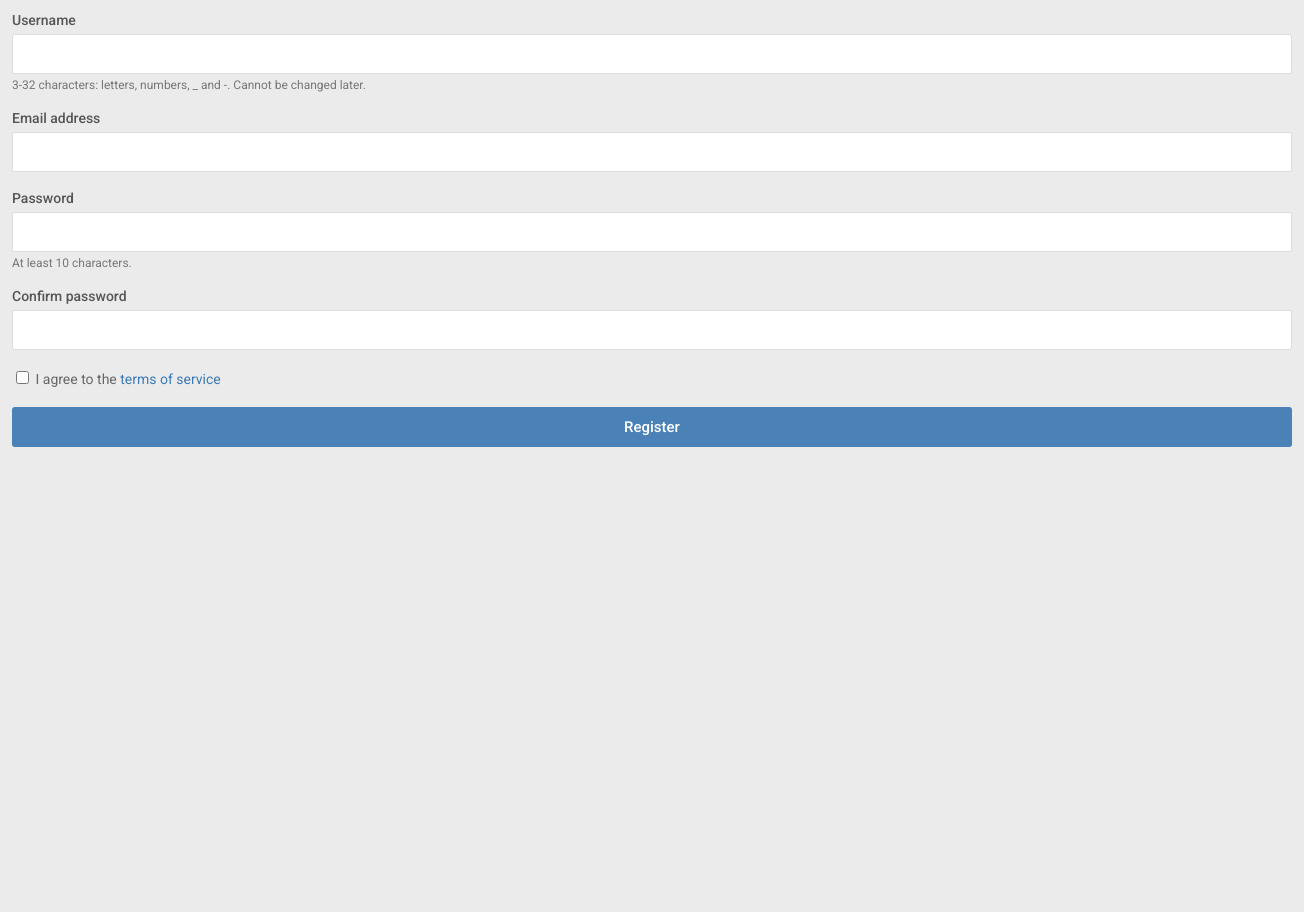
Test: links the terms and enforces the client-side limits
Type "a b" into the field labelled "Username" at x=652, y=54, box top-left (12, 34), bottom-right (1292, 74)
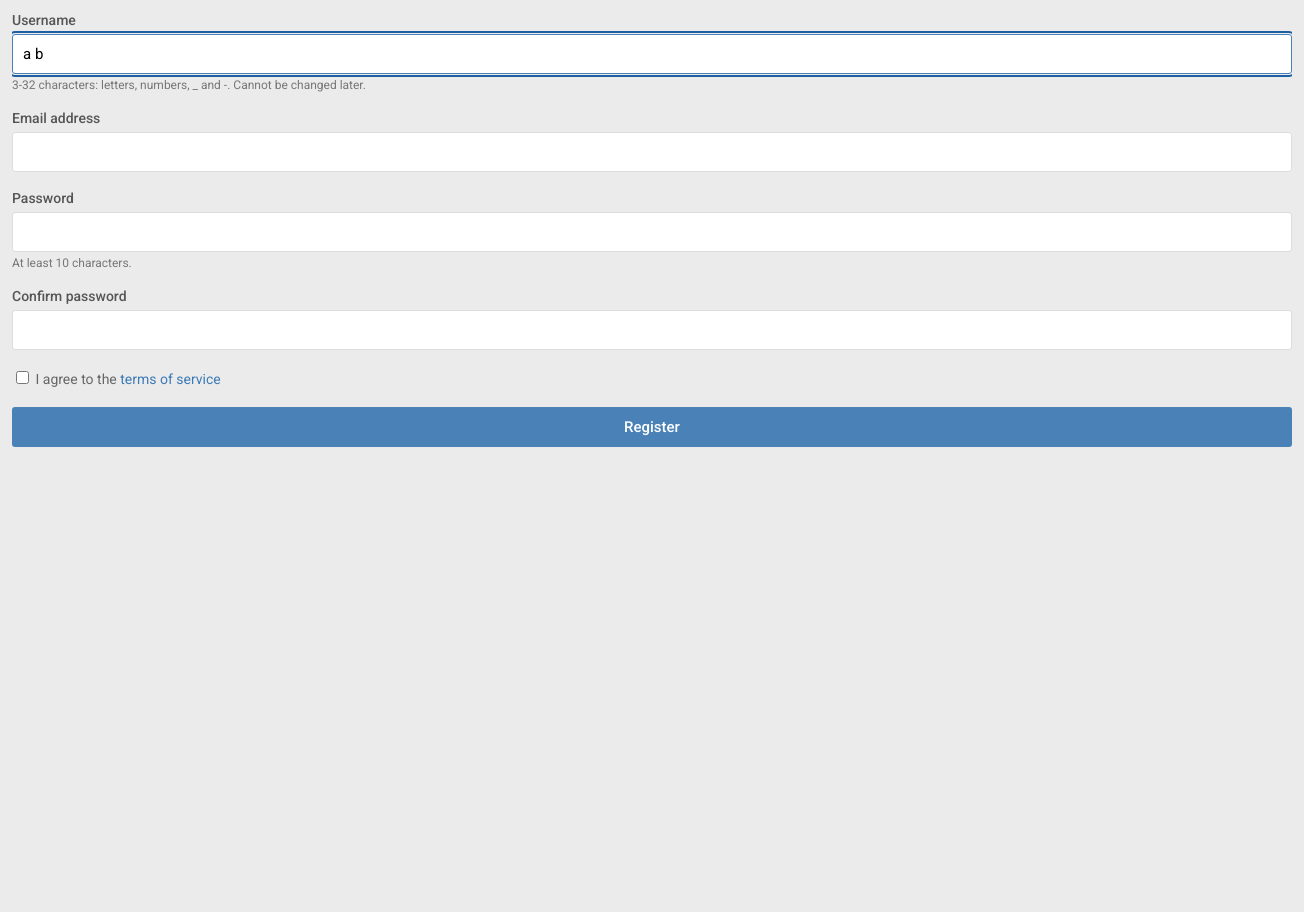
Type "nope" into the field labelled "Email address" at x=652, y=152, box top-left (12, 132), bottom-right (1292, 172)
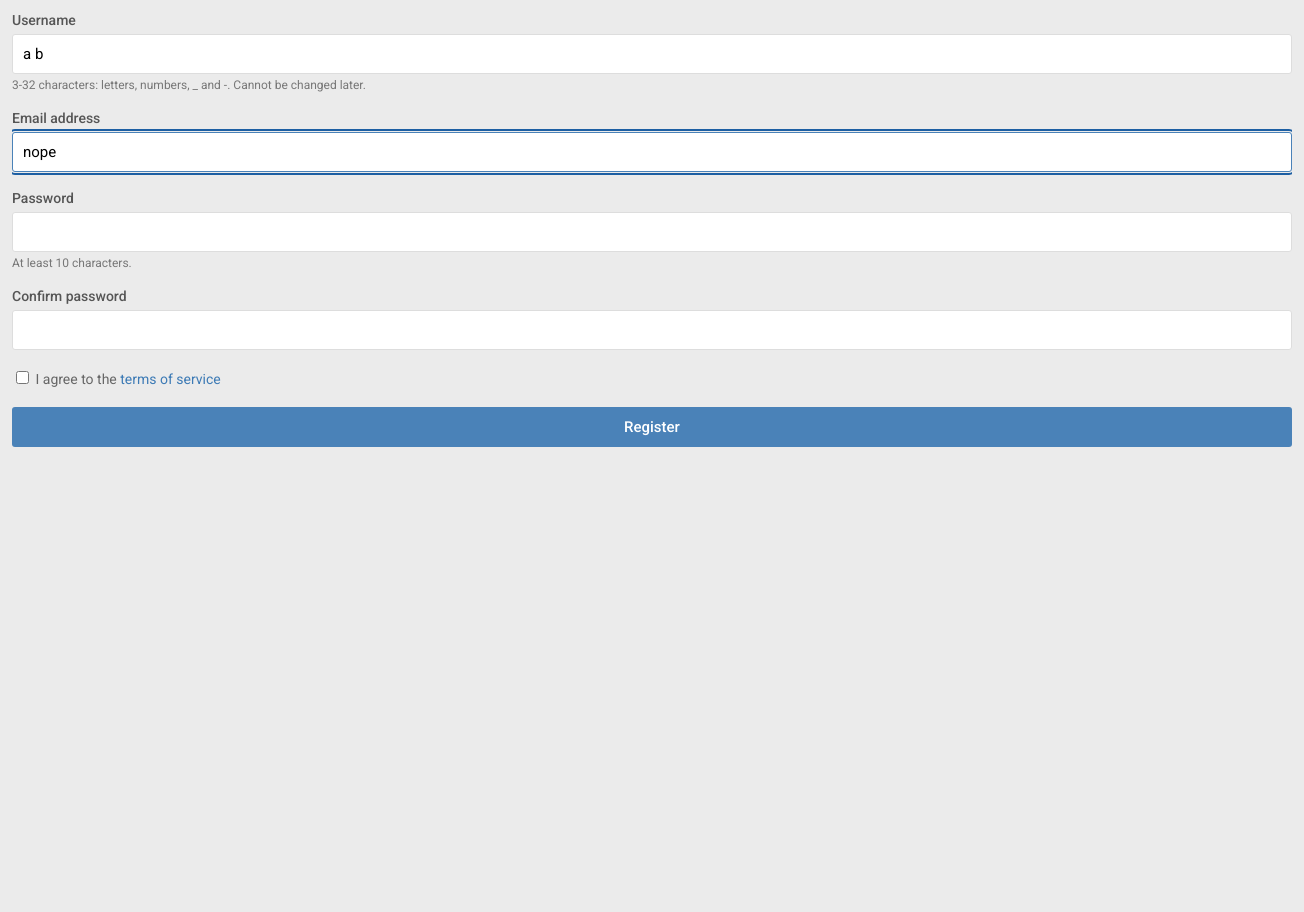
Type "short" into the password field labelled "Password" at x=652, y=232, box top-left (12, 212), bottom-right (1292, 252)
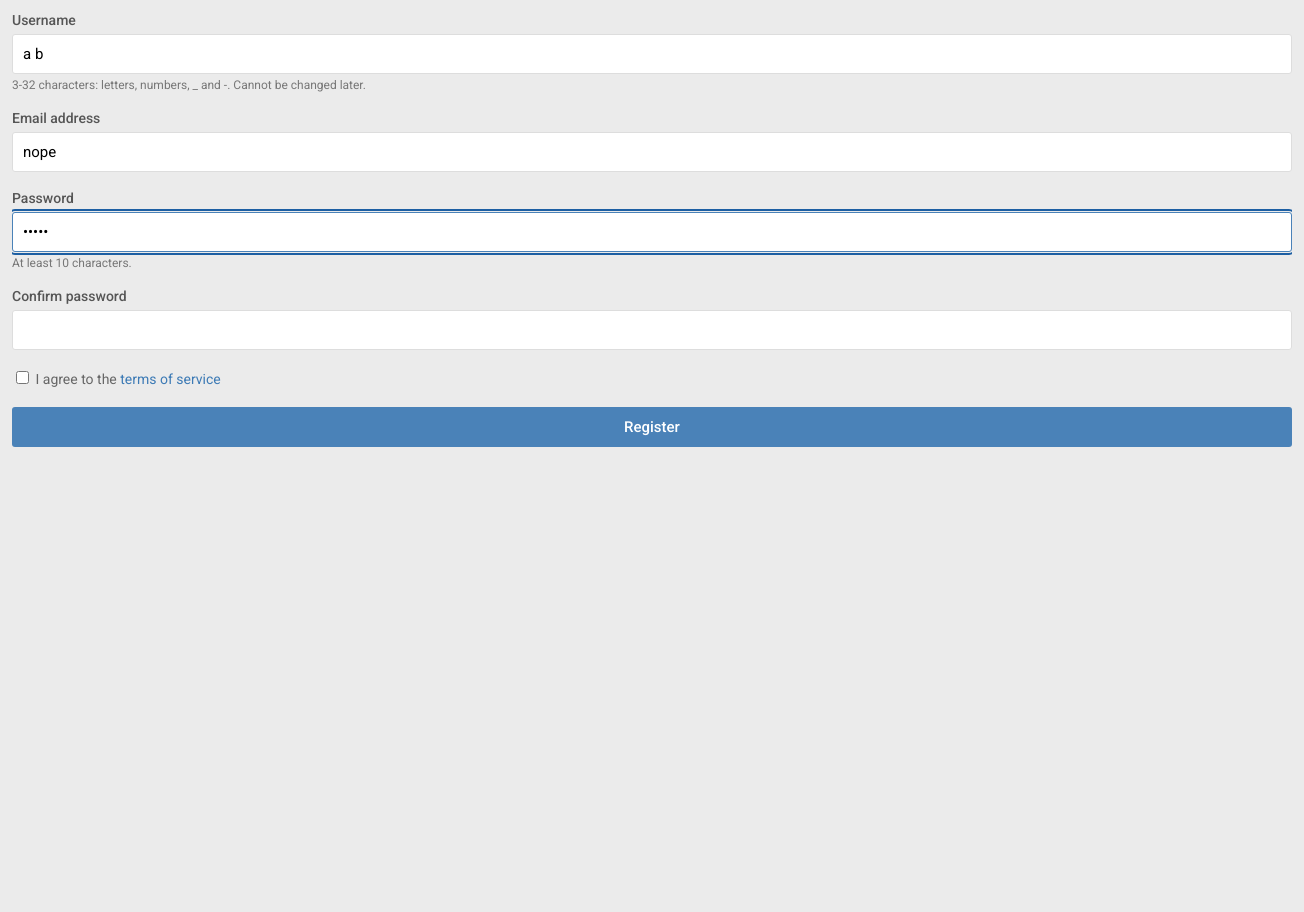
Type "different" into the password field labelled "Confirm password" at x=652, y=330, box top-left (12, 310), bottom-right (1292, 350)
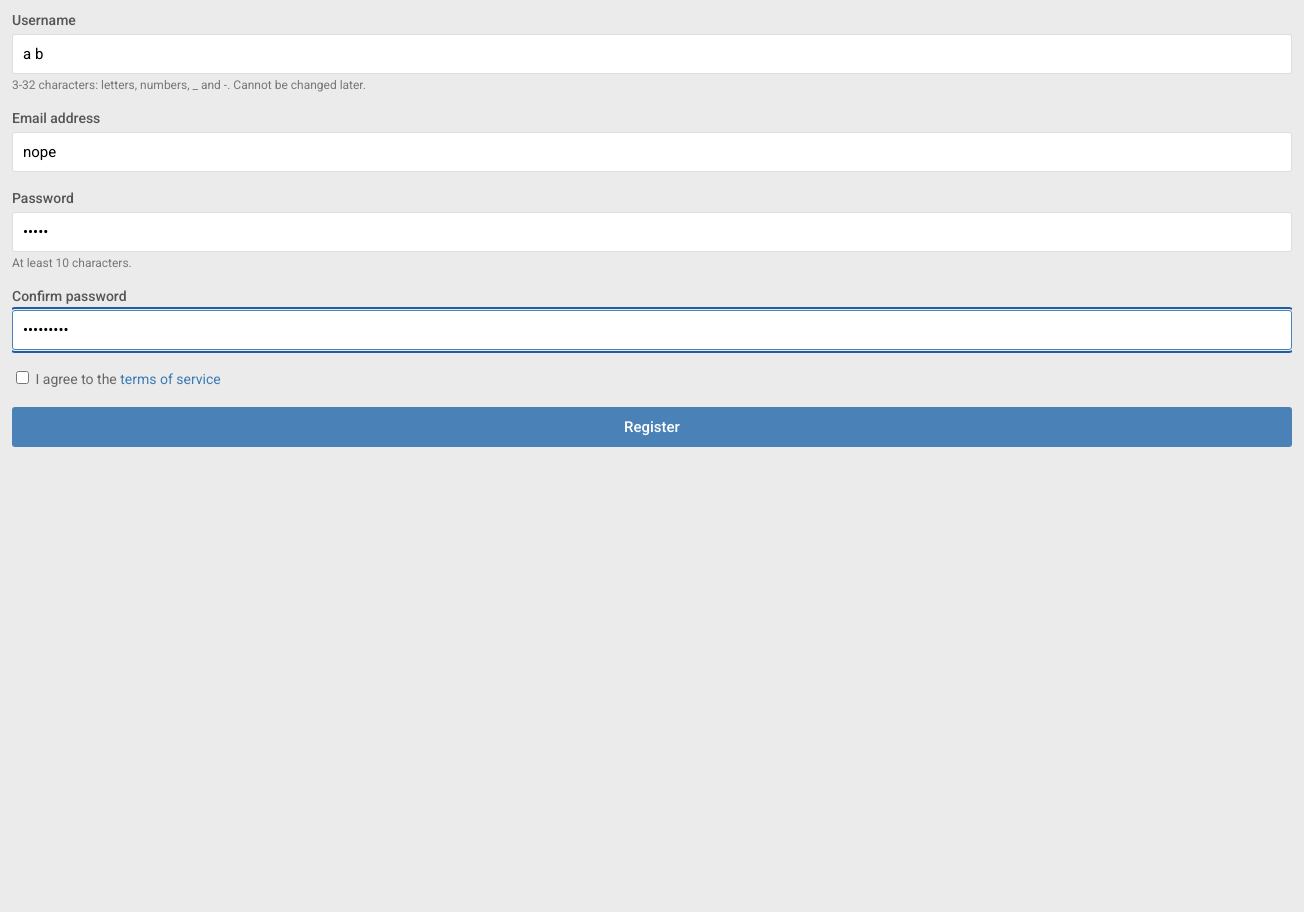
Click the button "Register" at x=652, y=427, box top-left (12, 407), bottom-right (1292, 447)
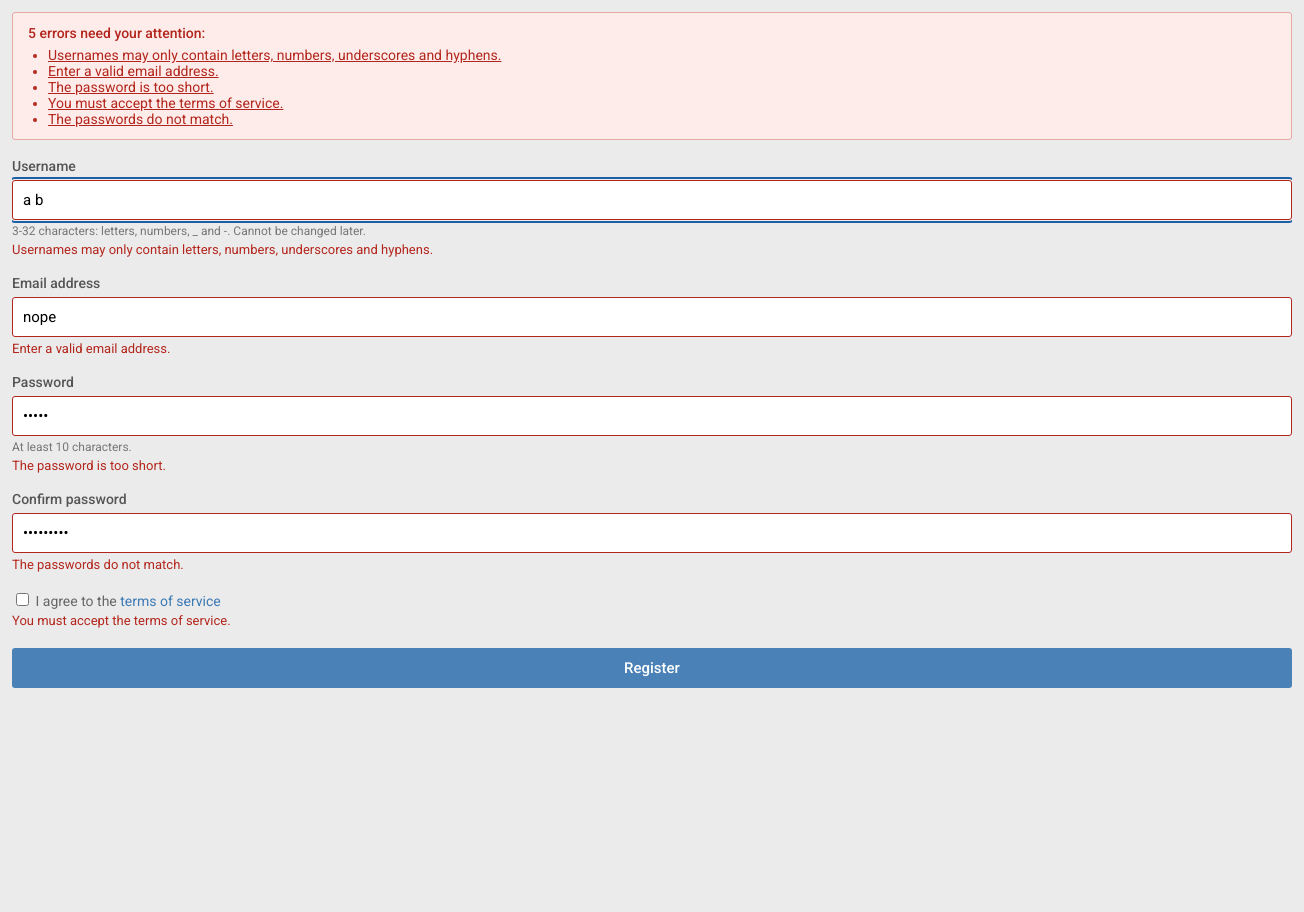
Expected: the message shows "5 errors need your attention", top-left (28, 25), bottom-right (205, 41)
Expected: the message shows "Usernames may only contain", top-left (48, 47), bottom-right (502, 63)
Expected: the message shows "Enter a valid email address.", top-left (48, 63), bottom-right (219, 79)
